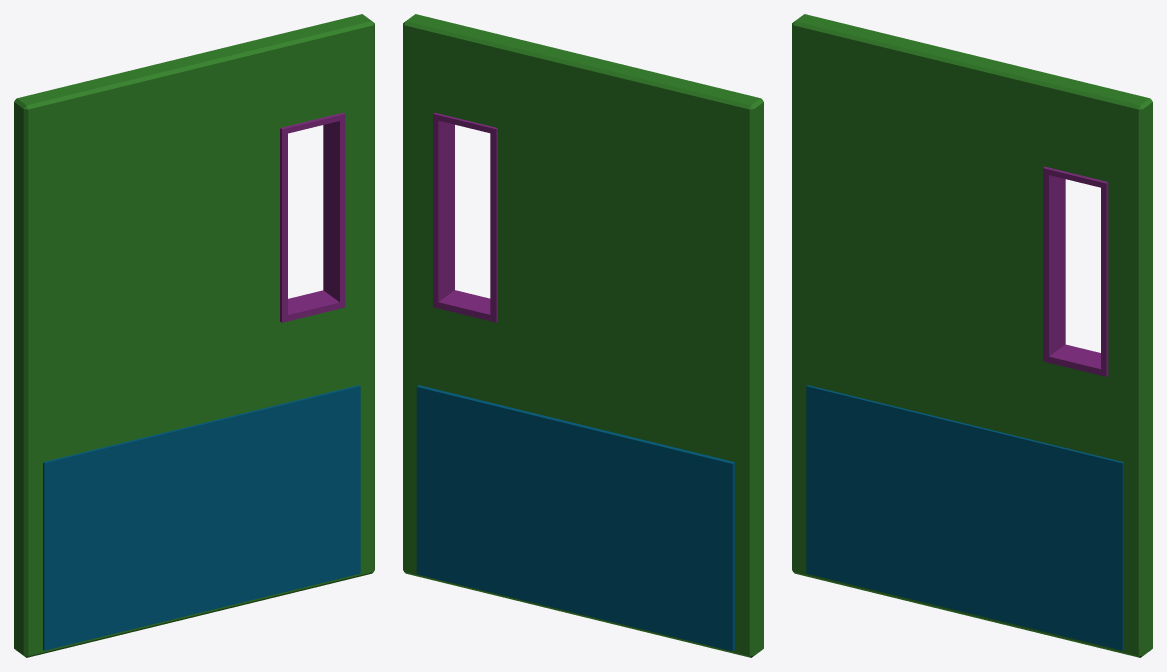
File: Hospital Door.fbx
3 views of the same model, side by side, from view 1: azimuth 30°, elevation 25°; view 2: azimuth 150°, elevation 25°; view 3: azimuth 330°, elevation 25° (orthographic).
Visible parts, largest first — view 1: pCube3 (×3); view 2: pCube3 (×3); view 3: pCube3 (×3).
Part boxes in pixels (x1,y1,x2,y2): pCube3 (×3): [14, 14, 374, 657]; pCube3 (×3): [403, 14, 763, 657]; pCube3 (×3): [792, 14, 1152, 657].
Size of the model in its own units: 8.67 by 13.04 by 0.7422.
